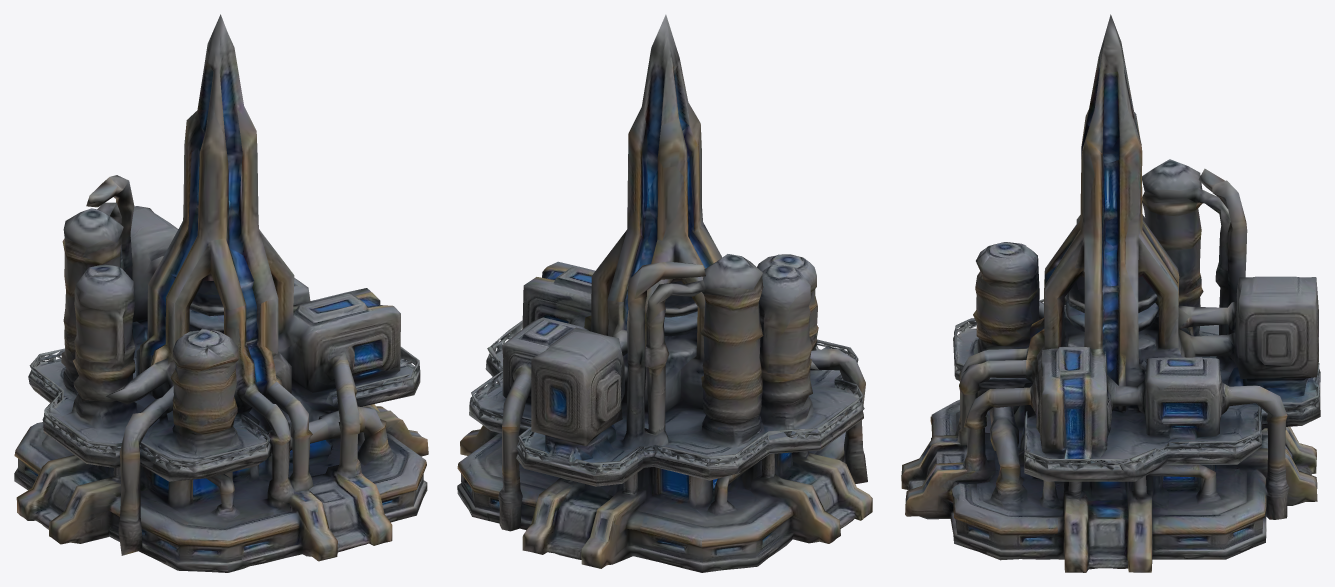
The model's file is building_tower.glb.
3 renders of one model, left to right at view 1: azimuth 30°, elevation 25°; view 2: azimuth 150°, elevation 25°; view 3: azimuth 270°, elevation 25°, orthographic.
Parts seen in each view (by area): view 1: tripo_node_20e06051-3ee1-4cb8-8ac7-76bbda8c5157; view 2: tripo_node_20e06051-3ee1-4cb8-8ac7-76bbda8c5157; view 3: tripo_node_20e06051-3ee1-4cb8-8ac7-76bbda8c5157.
Boxes of the visible parts, x1=… form: tripo_node_20e06051-3ee1-4cb8-8ac7-76bbda8c5157: x1=14, y1=14, x2=428, y2=572; tripo_node_20e06051-3ee1-4cb8-8ac7-76bbda8c5157: x1=457, y1=14, x2=872, y2=572; tripo_node_20e06051-3ee1-4cb8-8ac7-76bbda8c5157: x1=901, y1=14, x2=1320, y2=572.
Bounding box in the file's own units: 0.8078 × 0.9893 × 0.7948.
1 material, 1 textured.
